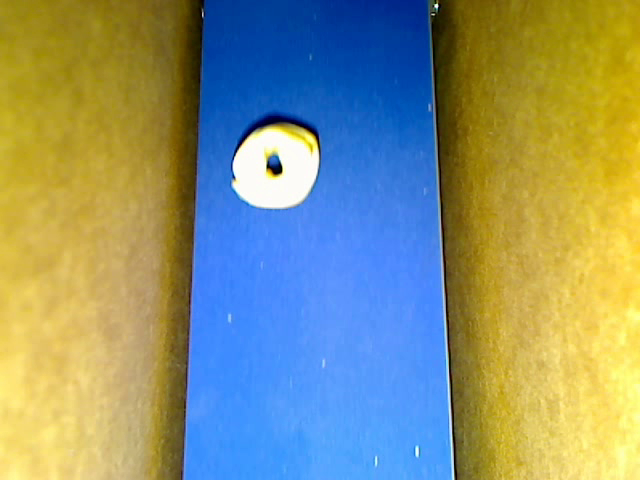tortellini: (230, 123, 319, 212)
